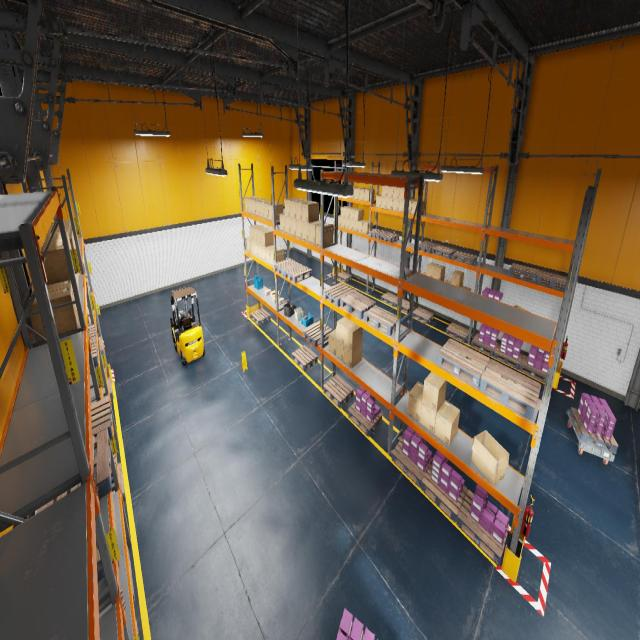box: (29, 287, 78, 341), (471, 430, 509, 486), (26, 244, 70, 288), (31, 280, 78, 318), (434, 400, 460, 446), (422, 371, 447, 412), (420, 400, 444, 434), (44, 235, 73, 263), (407, 382, 423, 422), (344, 322, 362, 350), (52, 220, 78, 238), (46, 231, 71, 249), (344, 343, 362, 368), (336, 317, 352, 344), (308, 220, 326, 243), (316, 223, 333, 246), (302, 201, 318, 223), (290, 198, 306, 218), (284, 197, 300, 217), (296, 200, 311, 220), (268, 202, 283, 220), (270, 246, 284, 265), (260, 230, 274, 247), (255, 199, 268, 216), (451, 270, 464, 287), (259, 200, 271, 218), (266, 245, 278, 263), (264, 202, 276, 219), (257, 228, 269, 245), (252, 198, 264, 214), (248, 198, 260, 214), (244, 196, 256, 212), (253, 226, 265, 242), (249, 224, 261, 240), (433, 264, 445, 280), (329, 329, 336, 355), (68, 232, 77, 252), (336, 339, 344, 361), (411, 200, 423, 214), (426, 262, 437, 277), (48, 226, 72, 232), (399, 187, 411, 199), (115, 531, 119, 566), (42, 240, 62, 247), (364, 188, 374, 201), (408, 198, 416, 214), (113, 510, 117, 541), (302, 221, 308, 241), (363, 221, 372, 234), (49, 224, 72, 229), (296, 219, 302, 238), (290, 217, 296, 236), (514, 305, 530, 312), (358, 220, 367, 232), (354, 208, 363, 220), (349, 208, 358, 220), (345, 206, 354, 218), (359, 188, 368, 200), (280, 212, 285, 232), (74, 266, 78, 290), (48, 229, 72, 233), (341, 206, 349, 218), (354, 187, 362, 199), (350, 186, 358, 198), (392, 198, 399, 211), (285, 216, 290, 233), (112, 492, 115, 520), (69, 235, 75, 249), (50, 222, 71, 226), (398, 199, 404, 212), (261, 245, 266, 260), (393, 186, 399, 198), (381, 196, 387, 208), (257, 244, 262, 258), (387, 197, 392, 210), (376, 195, 381, 208), (87, 306, 90, 326), (87, 302, 90, 322), (348, 187, 354, 197), (388, 186, 393, 198), (382, 185, 387, 197), (254, 242, 258, 256), (250, 240, 254, 253), (353, 221, 358, 231), (272, 290, 279, 297), (247, 236, 250, 252), (349, 219, 353, 230), (345, 218, 349, 229), (460, 286, 470, 290), (340, 217, 344, 227), (278, 298, 284, 304), (272, 297, 278, 303), (265, 289, 271, 295), (270, 290, 275, 297), (338, 215, 341, 226), (76, 274, 78, 288), (444, 280, 450, 283), (77, 273, 78, 282), (79, 269, 81, 273)
forklift: (170, 286, 205, 366)
pallets: (37, 429, 111, 513), (456, 489, 509, 566), (479, 359, 542, 420), (421, 462, 467, 522), (436, 338, 489, 388), (570, 407, 618, 454), (392, 436, 432, 487), (348, 402, 382, 437), (364, 305, 401, 336), (91, 396, 113, 448), (323, 374, 353, 408), (340, 291, 376, 319), (323, 282, 356, 307), (518, 355, 546, 383), (493, 344, 523, 369), (303, 321, 332, 346), (292, 345, 317, 371), (508, 263, 540, 282), (537, 270, 567, 290), (471, 334, 498, 356), (336, 620, 363, 640), (284, 264, 312, 283), (112, 463, 125, 502), (127, 546, 135, 606), (273, 259, 300, 276), (446, 322, 468, 342), (96, 540, 105, 582), (452, 251, 478, 265), (413, 307, 434, 324), (250, 308, 270, 325), (394, 298, 414, 314), (432, 245, 456, 258), (111, 444, 118, 483), (380, 292, 398, 306), (418, 241, 439, 253), (90, 340, 98, 370), (88, 325, 97, 347), (369, 229, 388, 239), (380, 232, 399, 242), (337, 271, 352, 282), (98, 337, 104, 356), (108, 377, 113, 399), (136, 620, 139, 640), (102, 390, 104, 398), (404, 278, 408, 280)
